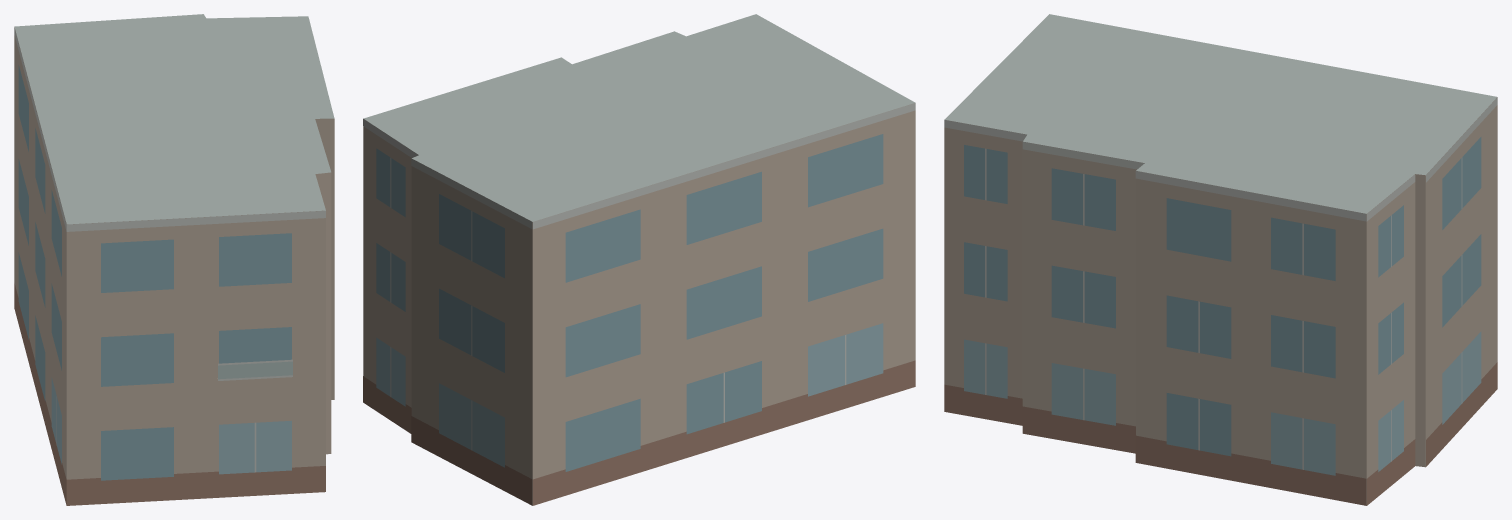
Rendered from survey-upis-32508170.glb.
3 views of the same model, side by side, from view 1: azimuth 30°, elevation 25°; view 2: azimuth 150°, elevation 25°; view 3: azimuth 270°, elevation 25° (orthographic). The views are drawn at different scales.
Visible parts, largest first — view 1: survey-upis-32508170.tmp; view 2: survey-upis-32508170.tmp; view 3: survey-upis-32508170.tmp.
Part boxes in pixels (left/top/right/bottom): survey-upis-32508170.tmp: left=14, top=14, right=334, bottom=505; survey-upis-32508170.tmp: left=363, top=14, right=915, bottom=505; survey-upis-32508170.tmp: left=944, top=14, right=1497, bottom=505.
Bounding box in the file's own units: 13.44 × 9.15 × 15.72.
